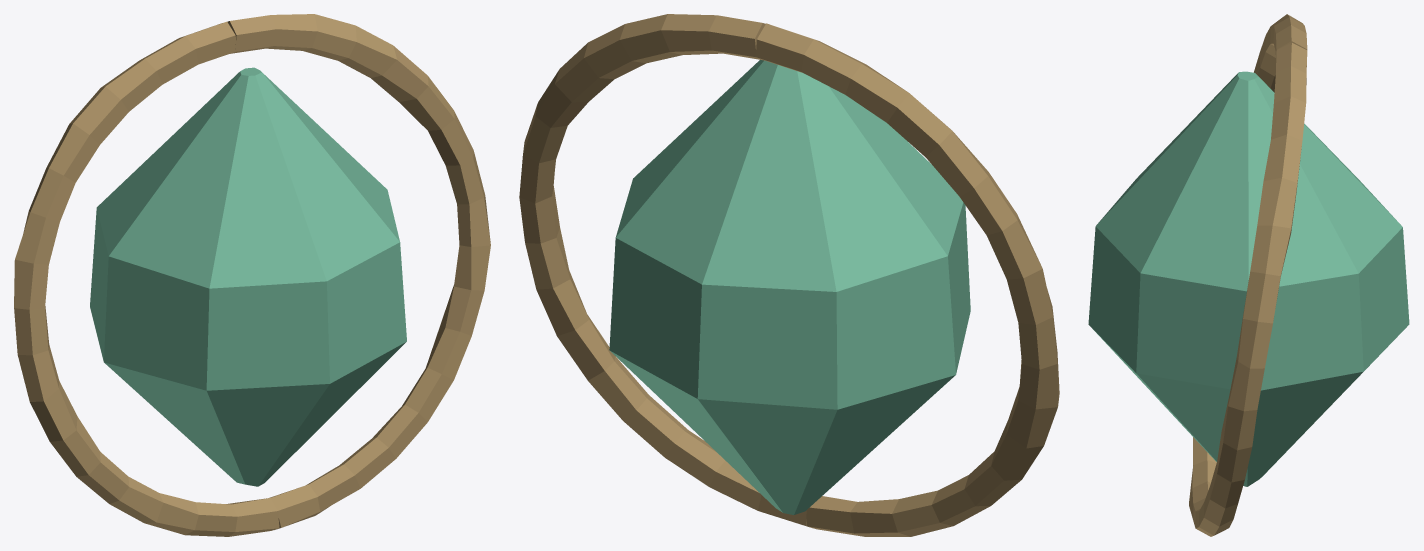
File: beacon0.glb
3 renders of one model, left to right at view 1: azimuth 30°, elevation 25°; view 2: azimuth 150°, elevation 25°; view 3: azimuth 270°, elevation 25°, orthographic. The views are drawn at different scales.
Parts seen in each view (by area): view 1: beacon0; view 2: beacon0; view 3: beacon0.
Part boxes in pixels (x1,y1,x2,y2): beacon0: (14,14,490,536); beacon0: (519,14,1059,536); beacon0: (1088,14,1409,536).
Bounding box in the file's own units: 0.5392 × 0.5229 × 0.323.
